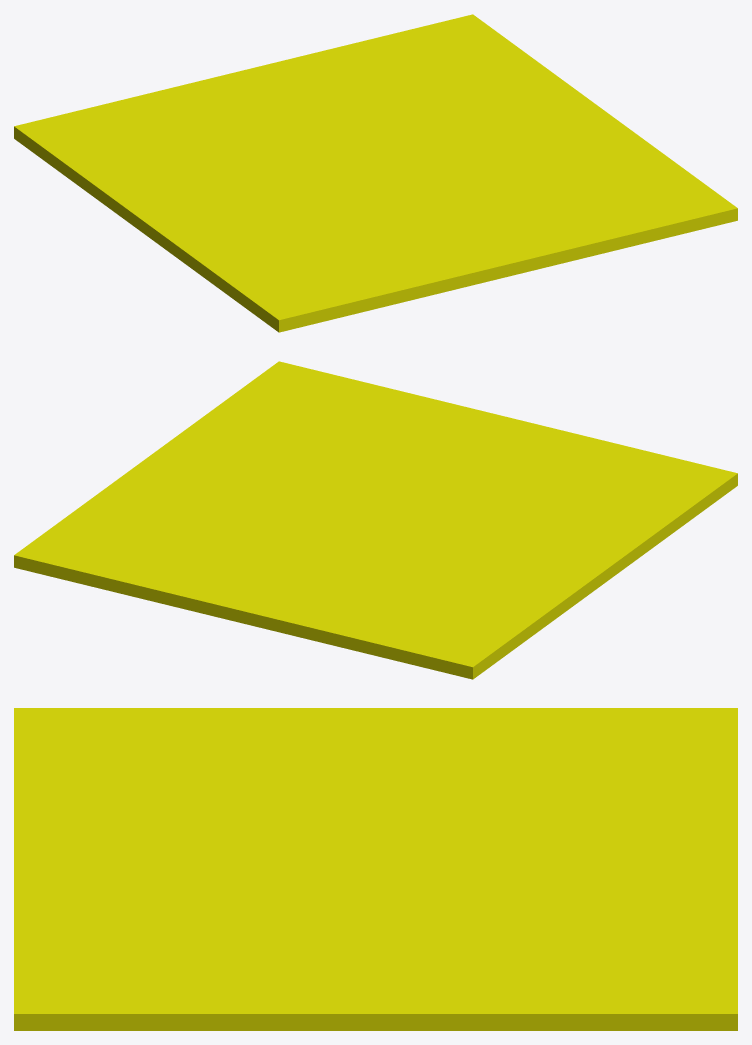
File: ground_4x4.glb
3 views of the same model, one above another, from view 1: azimuth 30°, elevation 25°; view 2: azimuth 150°, elevation 25°; view 3: azimuth 270°, elevation 25° (orthographic). The views are drawn at different scales.
Visible parts, largest first — view 1: ground_4x4; view 2: ground_4x4; view 3: ground_4x4.
Part boxes in pixels (x1,y1,x2,y2): ground_4x4: (14,14,737,332); ground_4x4: (14,361,737,679); ground_4x4: (14,708,737,1030).
Bounding box in the file's own units: 8 × 0.2062 × 8.
1 material, 1 textured.
